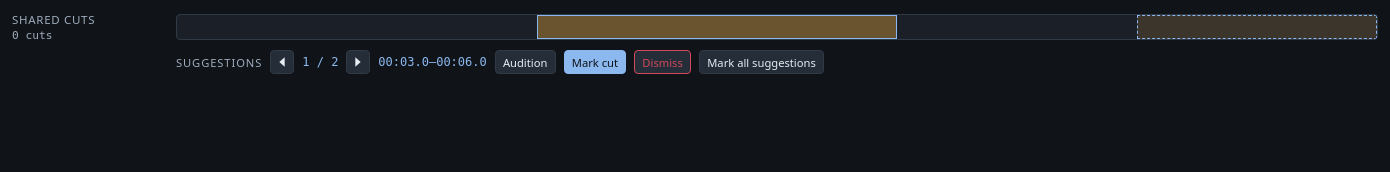
Test: cut lane review › accepts the current suggestion into the shared cuts
What coordinates should you click on to do the following:
click the button "Mark cut"
I would click on:
 (595, 62)
Its box is [564, 50, 626, 74].
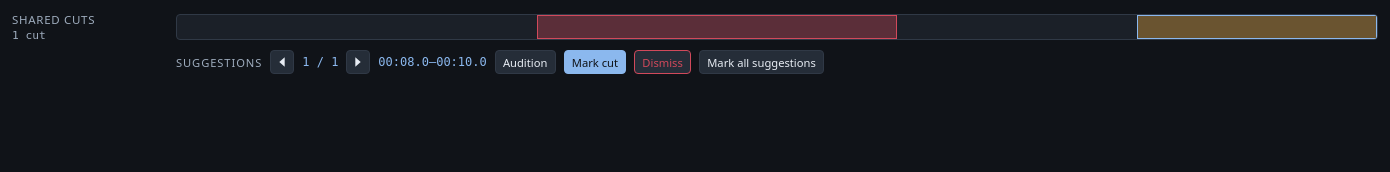
Check: the text "1 cut" is shown, box [12, 29, 46, 42]
